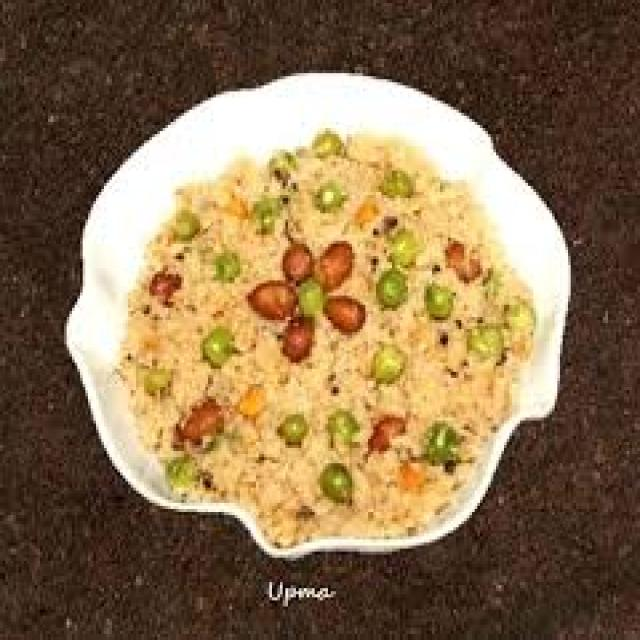UPMA: (109, 128, 531, 542)
